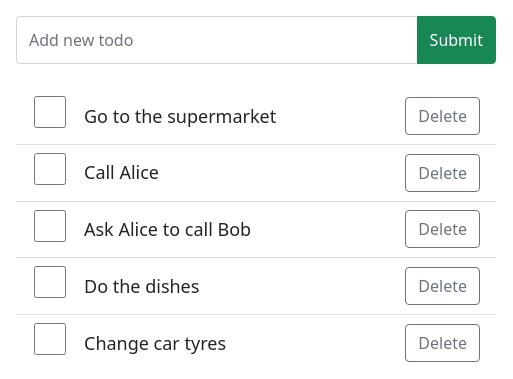
Test: App › it should delete the correct todo when the delete button is pressed
Expected: the text "Call Alice" is shown, x1=84 y1=160 x2=159 y2=184
# press the delete button
Click the button labelled "Delete" in the row of "Call Alice".
click(443, 173)  # box x1=405 y1=154 x2=480 y2=192
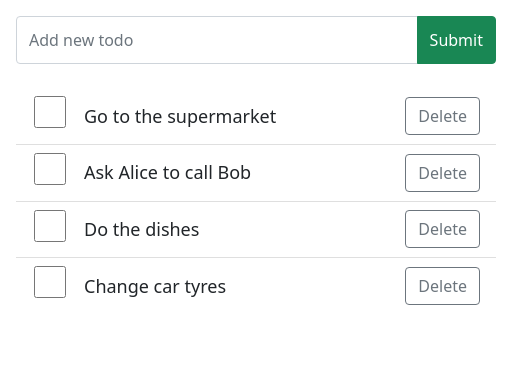
Expected: the text "Call Alice" is gone
Expected: the number of list items with class "todo" is 4, x1=16 y1=88 x2=496 y2=145; x1=16 y1=145 x2=496 y2=202; x1=16 y1=202 x2=496 y2=258; x1=16 y1=258 x2=496 y2=314
